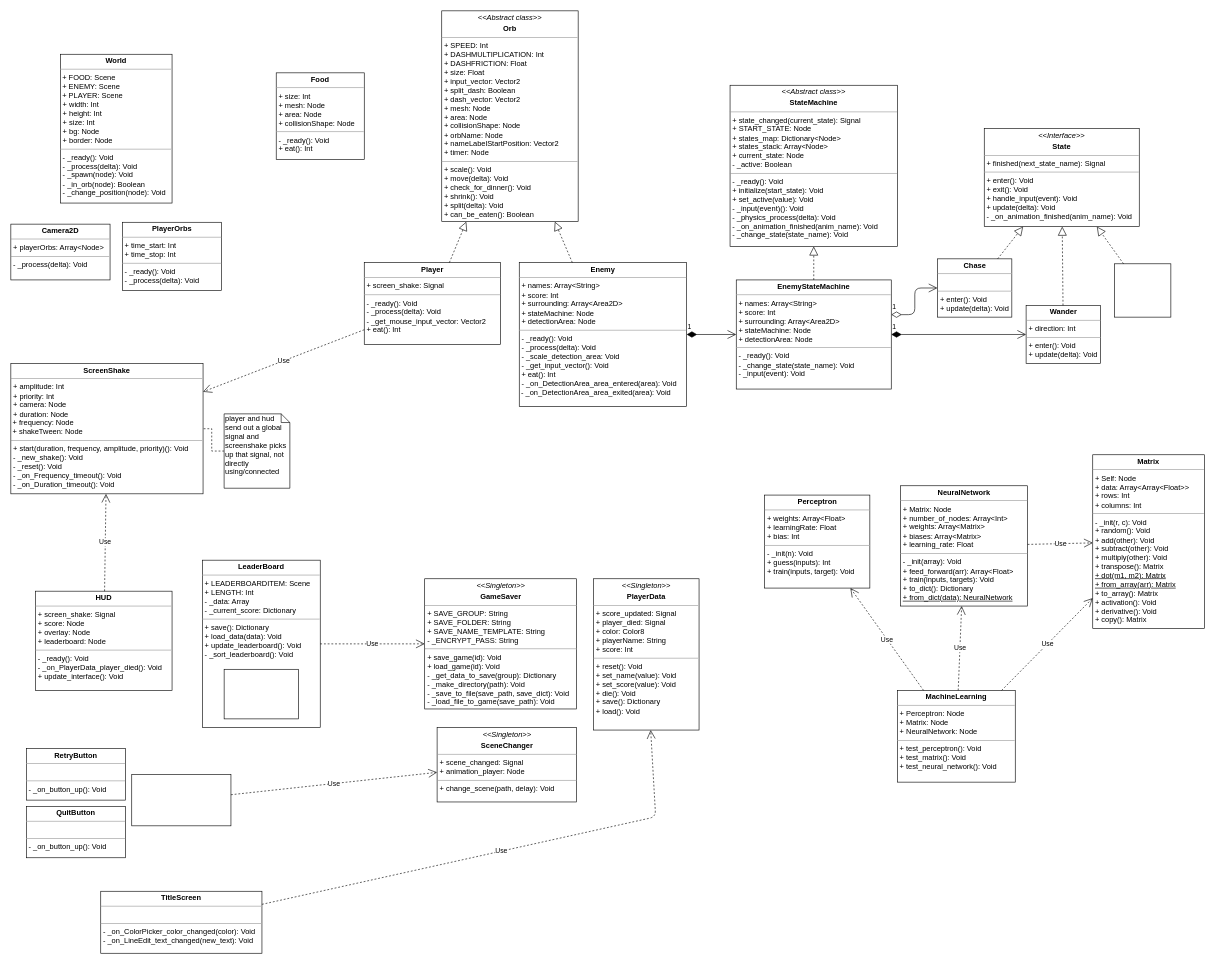
This 1215x964 diagram has some shape labels left out. The shapes that lost their labels are listed below. From the top down, each one's box as (x1, y1, x2, y2) in pixels, then its label:
(1114, 263, 1171, 317): Die + enter(): Void
(224, 669, 299, 719): MyCustomSorter - sort(a, b): Boolean
(131, 774, 231, 826): ChangeScene Button + next_scene_path: String - _on_button_up(): Void
